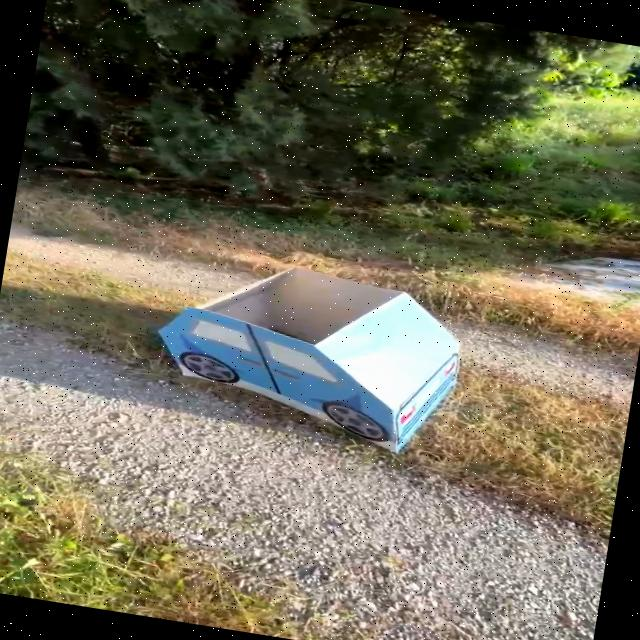blue_car: (82, 221, 534, 493)
